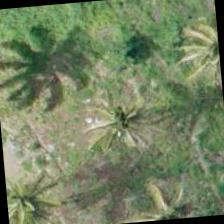Kelapa_Sawit: (72, 68, 170, 166), (114, 167, 208, 223), (4, 153, 70, 223)
